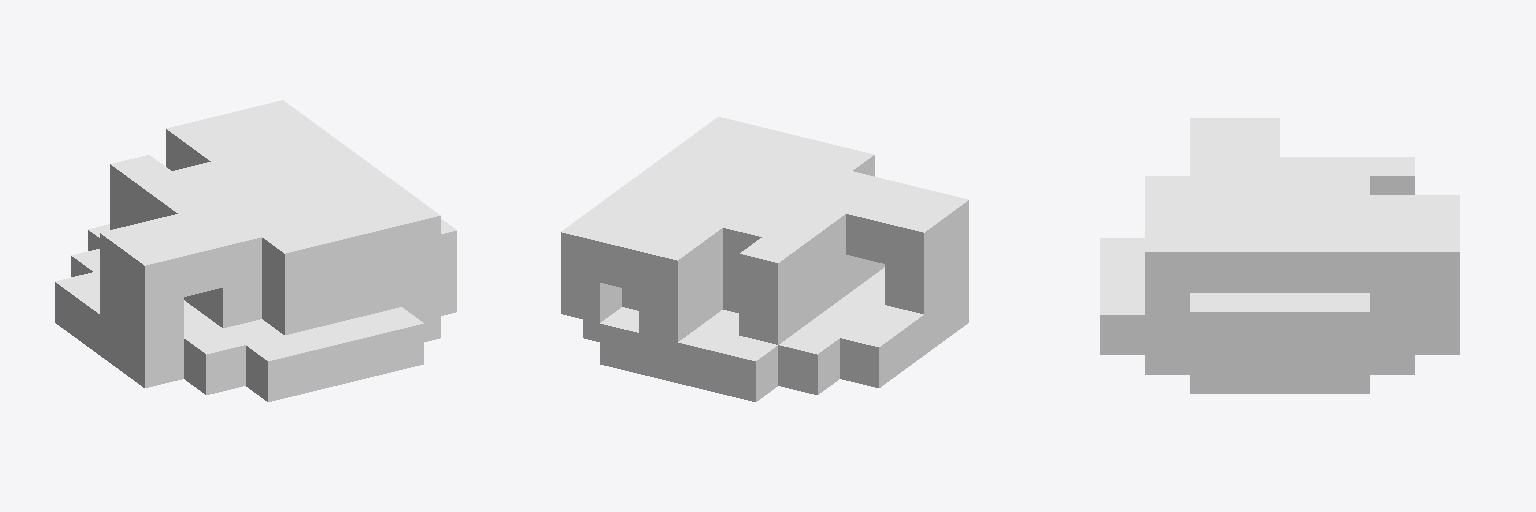
The model's file is Radar1.obj.
The picture shows the model from 3 angles: view 1: azimuth 30°, elevation 25°; view 2: azimuth 150°, elevation 25°; view 3: azimuth 270°, elevation 25°; orthographic projection.
Parts seen in each view (by area): view 1: object 1; view 2: object 1; view 3: object 1.
Boxes of the visible parts, x1=… form: object 1: x1=55, y1=100, x2=456, y2=401; object 1: x1=561, y1=117, x2=968, y2=401; object 1: x1=1100, y1=118, x2=1459, y2=393.
Bounding box in the file's own units: 0.8 × 0.3 × 0.8.